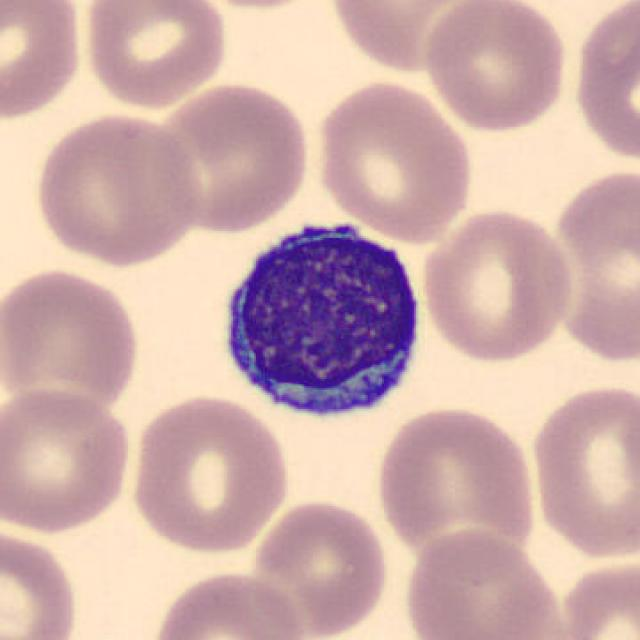Lymphocyte: (208, 206, 432, 430)
RBC: (372, 402, 540, 571), (28, 109, 206, 268), (311, 76, 478, 245), (126, 390, 294, 557), (418, 203, 578, 365), (148, 78, 314, 234), (0, 263, 144, 427), (0, 384, 137, 538), (247, 495, 391, 640), (526, 376, 638, 562), (420, 0, 570, 134), (398, 525, 571, 640), (546, 162, 640, 369), (78, 0, 233, 113), (325, 0, 491, 76), (569, 0, 640, 167), (147, 567, 307, 640), (0, 0, 87, 127), (0, 523, 82, 640), (551, 553, 638, 640), (180, 0, 336, 14)
